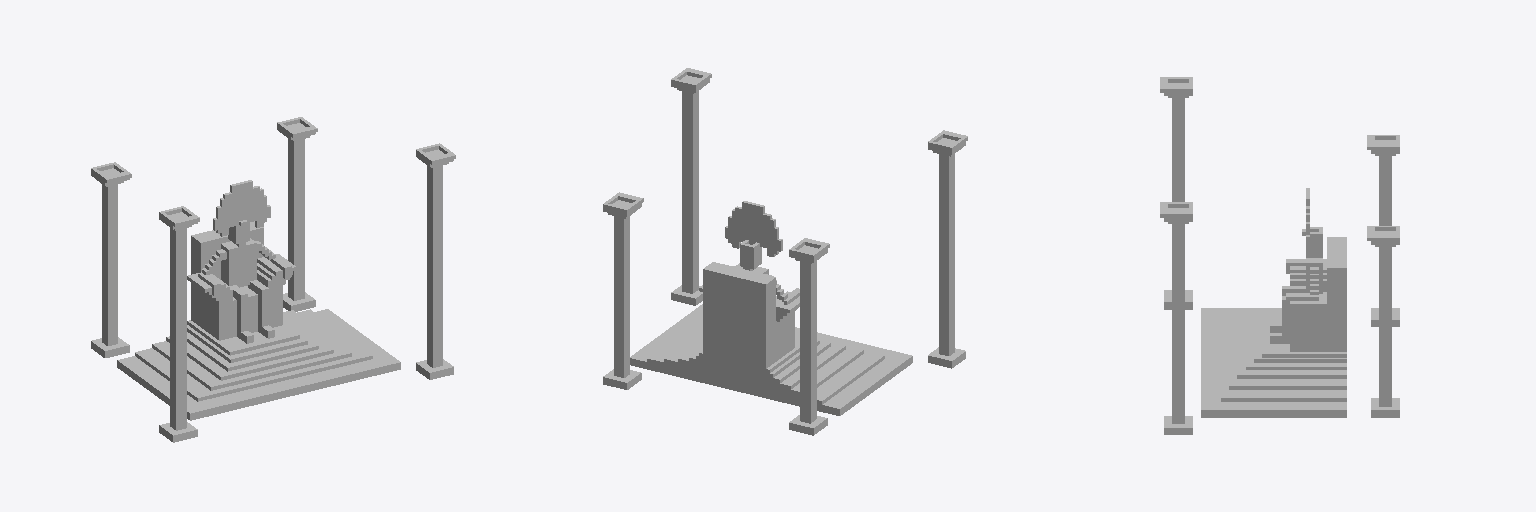
The model's file is king.obj.
3 renders of one model, left to right at view 1: azimuth 30°, elevation 25°; view 2: azimuth 150°, elevation 25°; view 3: azimuth 270°, elevation 25°, orthographic.
Visible parts, largest first — view 1: object 1; view 2: object 1; view 3: object 1.
Boxes of the visible parts, box(x1,y1,x2,y2) form: object 1: box(91, 117, 455, 442); object 1: box(603, 68, 967, 435); object 1: box(1160, 77, 1399, 434).
Size of the model in its own units: 8 by 6 by 5.9.